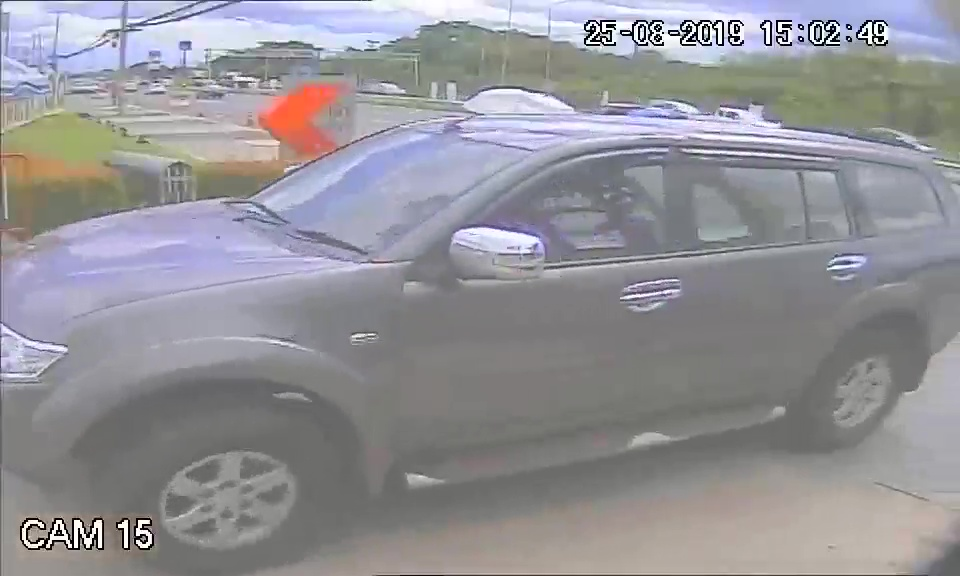pickup: (22, 105, 955, 481)
